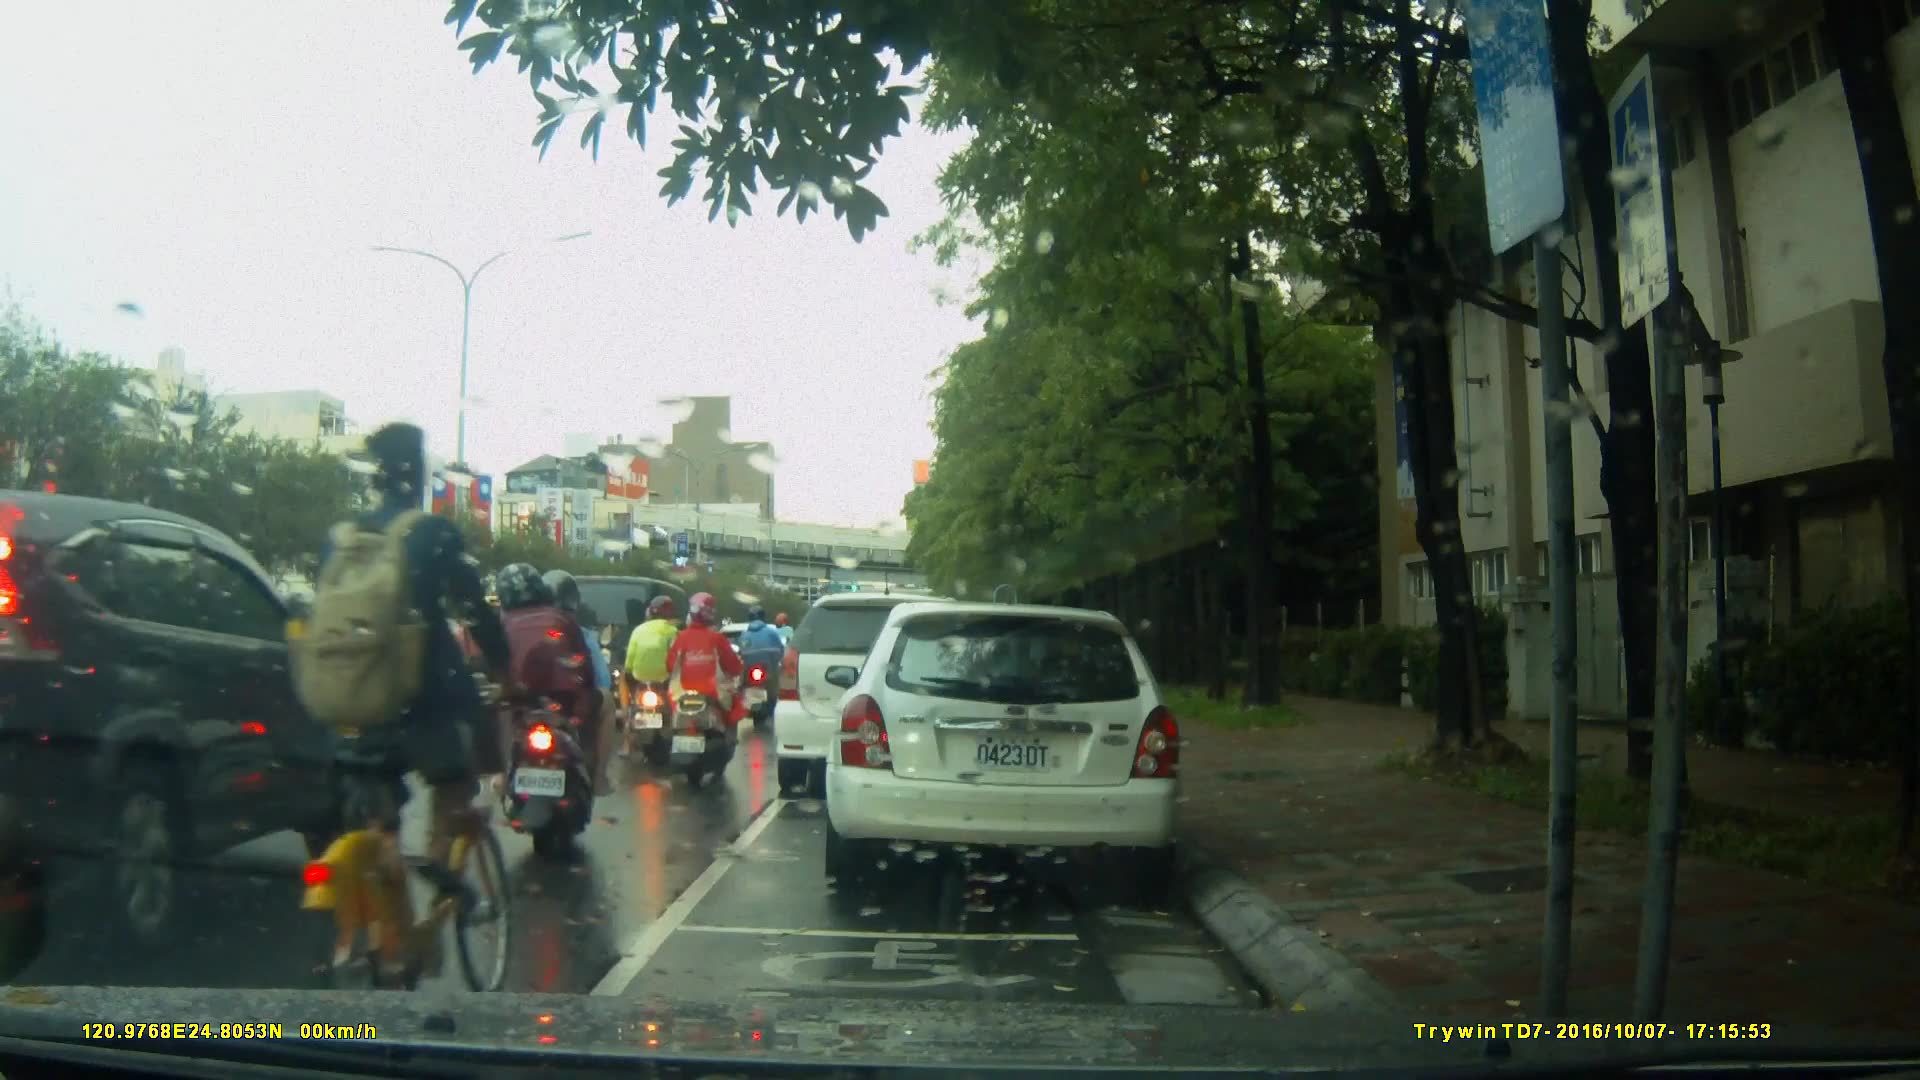rider: (284, 420, 531, 1034), (493, 565, 616, 860), (663, 594, 741, 787), (624, 599, 701, 765), (665, 601, 737, 733), (452, 598, 519, 736), (740, 598, 791, 729)
vehicle: (2, 492, 393, 960), (822, 604, 1188, 883), (774, 595, 995, 802), (284, 610, 500, 731)
